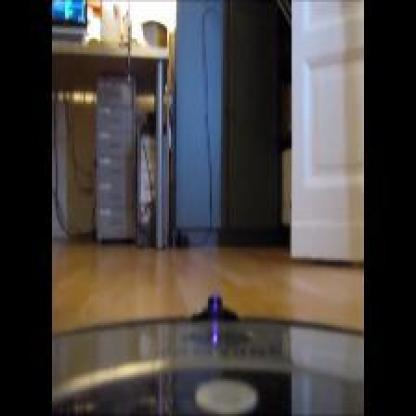other: (132, 4, 168, 20)
